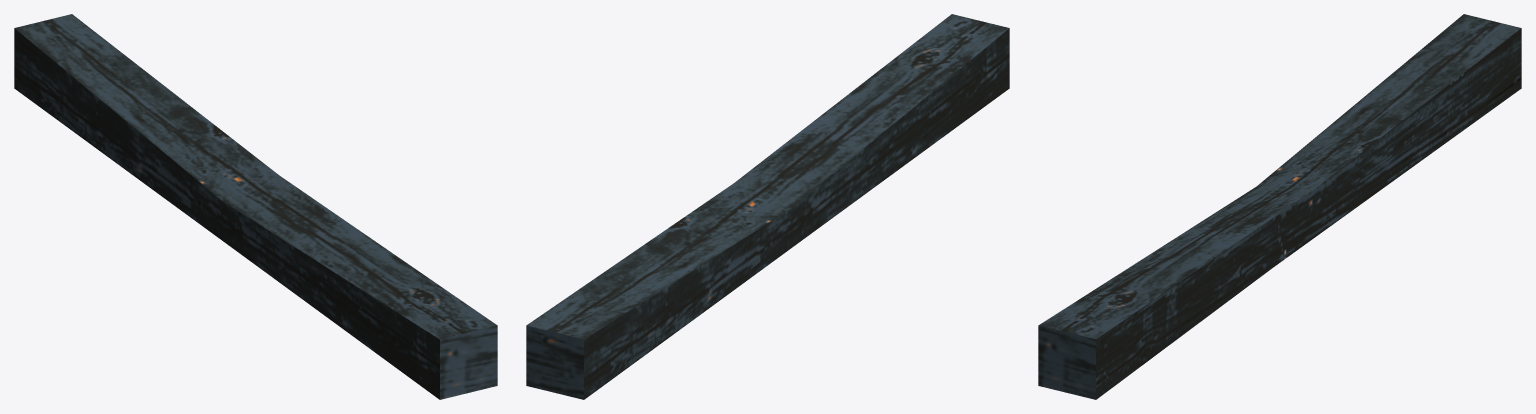
File: plank_2.fbx
3 renders of one model, left to right at view 1: azimuth 30°, elevation 25°; view 2: azimuth 150°, elevation 25°; view 3: azimuth 330°, elevation 25°, orthographic.
Parts seen in each view (by area): view 1: plank_2; view 2: plank_2; view 3: plank_2.
Part boxes in pixels (x1,y1,x2,y2): plank_2: (14,14,497,399); plank_2: (526,14,1009,399); plank_2: (1038,14,1521,399).
Bounding box in the file's own units: 0.00166 × 0.00166 × 0.0211.
